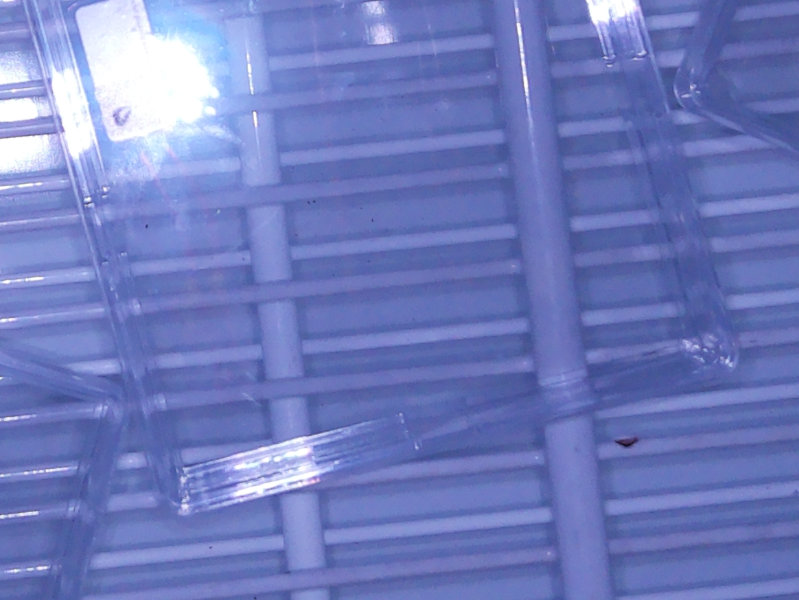plate: (22, 1, 741, 522), (1, 345, 128, 600), (672, 1, 799, 160)
